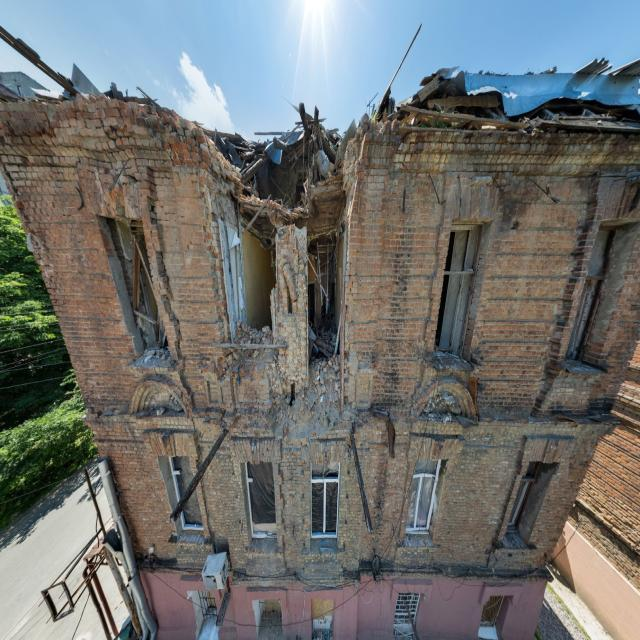broken_window: (433, 220, 482, 360), (404, 457, 442, 538), (245, 458, 277, 544), (169, 454, 204, 532), (310, 463, 340, 540)
building: (1, 62, 638, 638)
